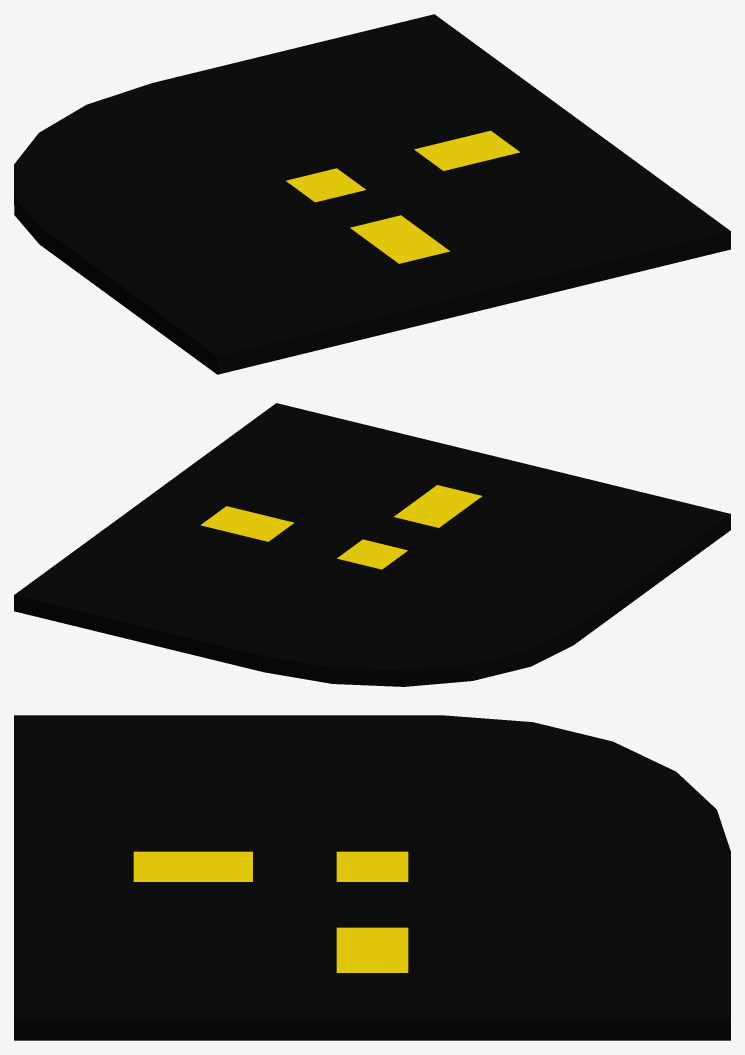
The model's file is Road-Bend.fbx.
The picture shows the model from 3 angles, top to bottom: view 1: azimuth 30°, elevation 25°; view 2: azimuth 150°, elevation 25°; view 3: azimuth 270°, elevation 25°; orthographic projection. The views are drawn at different scales.
Visible parts, largest first — view 1: Cube; view 2: Cube; view 3: Cube.
Part boxes in pixels (x1,y1,x2,y2): Cube: (14, 14, 730, 374); Cube: (14, 403, 730, 686); Cube: (14, 715, 730, 1040).
Size of the model in its own units: 200 by 6.81 by 200.
